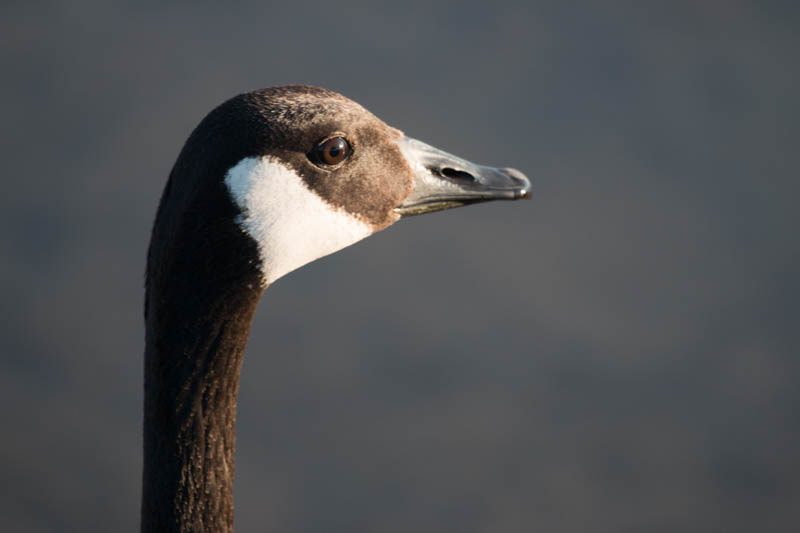goose-head: (145, 84, 532, 293)
